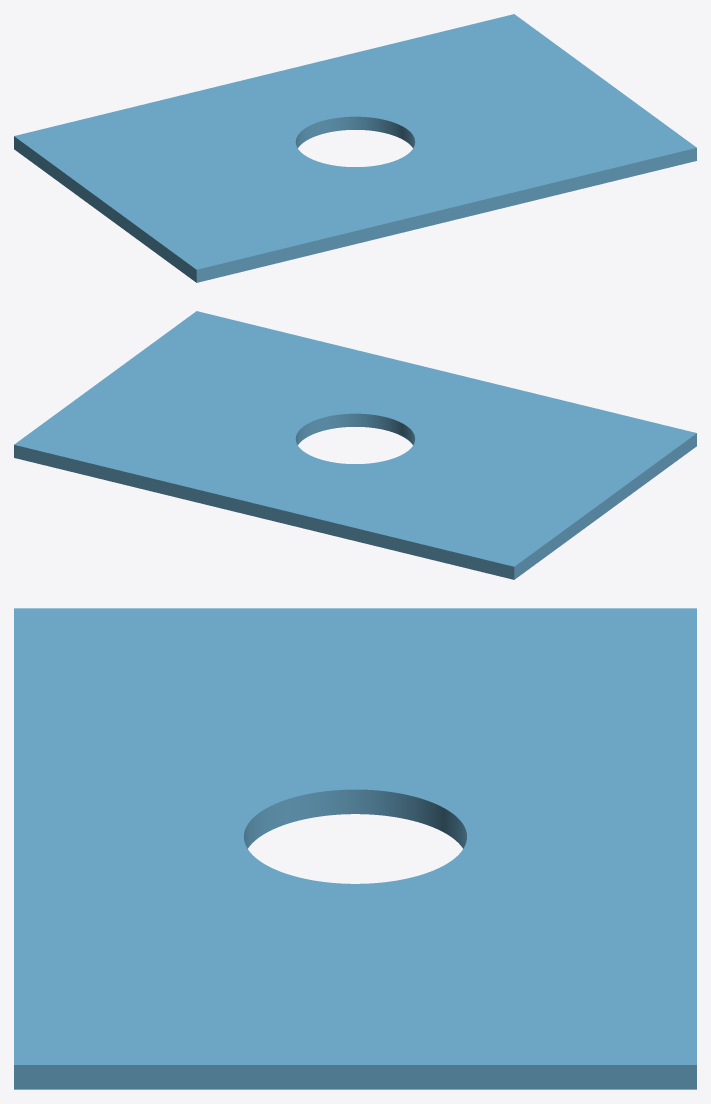
3 views of the same model, one above another, from view 1: azimuth 30°, elevation 25°; view 2: azimuth 150°, elevation 25°; view 3: azimuth 270°, elevation 25° (orthographic). The views are drawn at different scales.
Visible parts, largest first — view 1: G14_body; view 2: G14_body; view 3: G14_body.
Part boxes in pixels (x1,y1,x2,y2): G14_body: (14, 14, 696, 282); G14_body: (14, 311, 696, 579); G14_body: (14, 608, 696, 1089).
Size of the model in its own units: 81.77 by 2.05 by 51.71.
